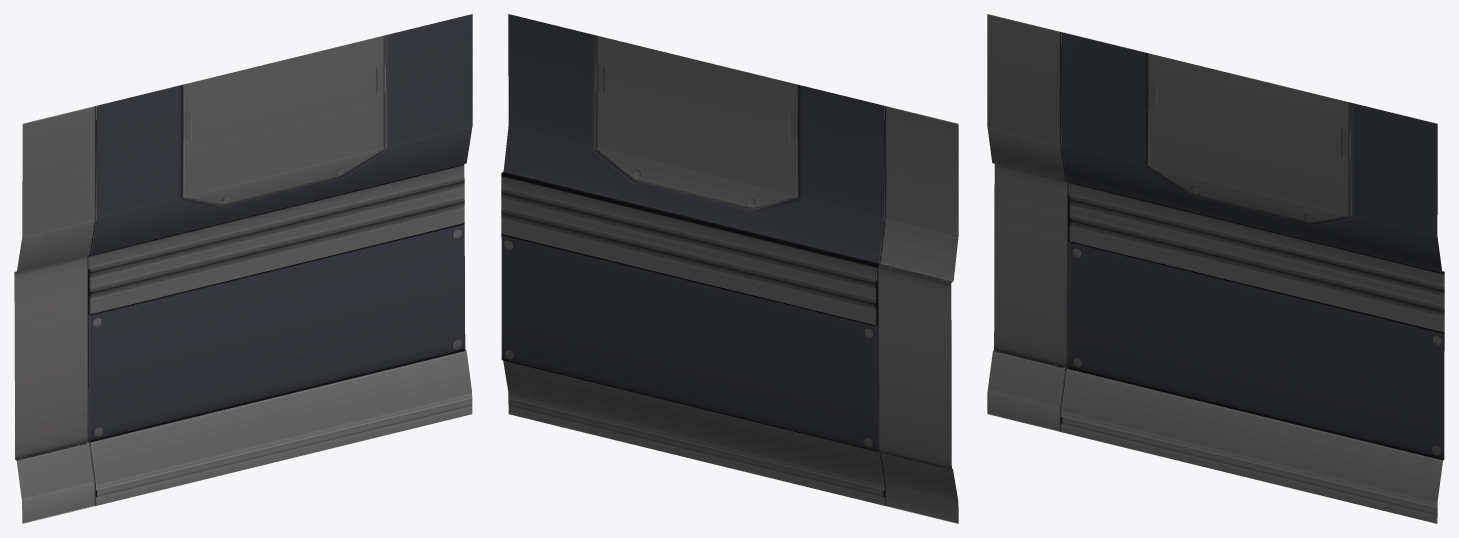
Rendered from Wall.fbx.
3 renders of one model, left to right at view 1: azimuth 30°, elevation 25°; view 2: azimuth 150°, elevation 25°; view 3: azimuth 330°, elevation 25°, orthographic.
Visible parts, largest first — view 1: Low_Wall:RetopoGroup1; view 2: Low_Wall:RetopoGroup1; view 3: Low_Wall:RetopoGroup1.
Boxes of the visible parts, x1,y1,x2,y2 form: Low_Wall:RetopoGroup1: (14, 14, 472, 523); Low_Wall:RetopoGroup1: (501, 14, 958, 523); Low_Wall:RetopoGroup1: (987, 14, 1444, 523).
Bounding box in the file's own units: 599 × 508 × 17.59.
